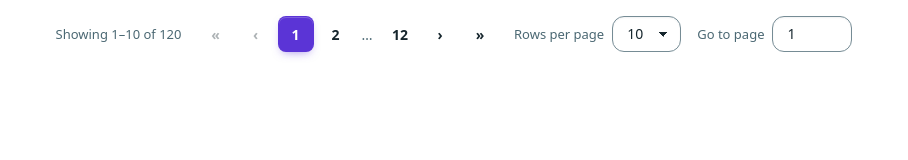
it: Paginator › reports the current range and changes rows per page
The image size is (908, 160).
expect the message reads "Showing 1–10 of 120": met, box [56,25,182,43]
expect the button named "First page" is disabled: met, box [198,16,234,52]
Select "25" in the dropdown labelled "Rows per page" at (647, 34), box [612,16,681,52]
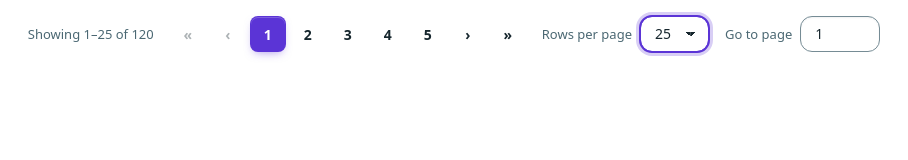
expect the message reads "Showing 1–25 of 120": met, box [28,25,154,43]
Click the button named "Next page" at (468, 34), box [450,16,486,52]
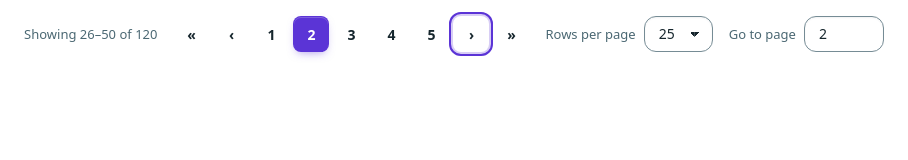
expect the message reads "Showing 26–50 of 120": met, box [24,25,157,43]
Click the button named "Last page" at (512, 34), box [494,16,530,52]
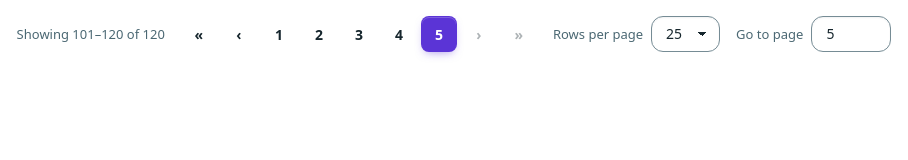
expect the message reads "Showing 101–120 of 120": met, box [17,25,165,43]
Replace the text in the number field labelled "Go to page" with "3" at (851, 34), box [811,16,891,52]
Then press Enter
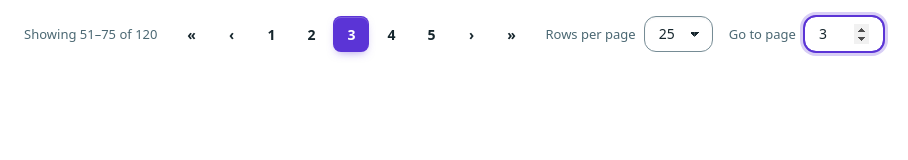
expect the message reads "Showing 51–75 of 120": met, box [24,25,157,43]
